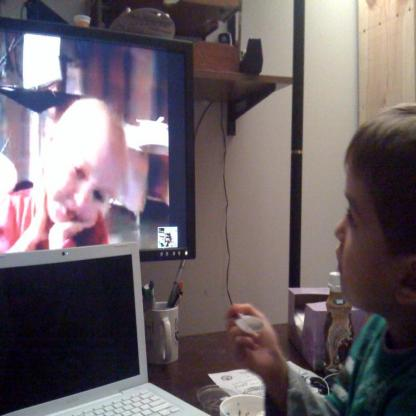board: (0, 240, 208, 416)
